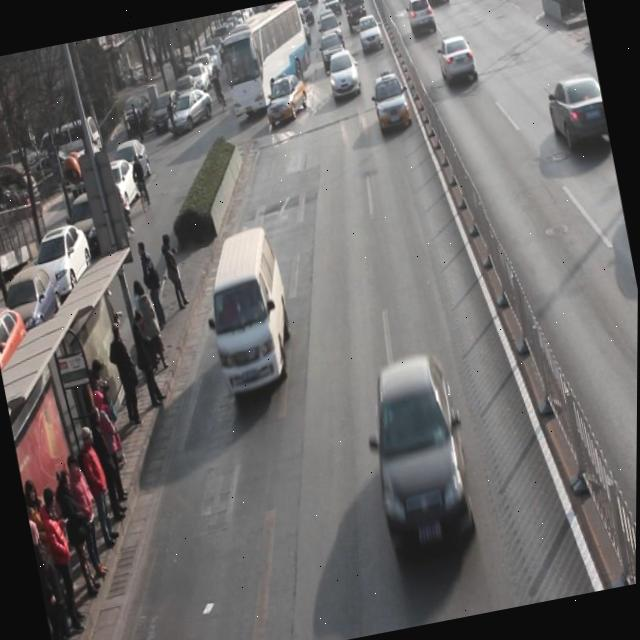car: (357, 346, 483, 559), (543, 68, 612, 156), (260, 72, 313, 128), (371, 70, 414, 135), (436, 32, 479, 90), (325, 47, 365, 101), (318, 29, 350, 75), (316, 8, 346, 54), (404, 0, 438, 40), (356, 12, 386, 57), (342, 0, 370, 30), (422, 0, 452, 12)
truck: (196, 222, 305, 396)
van: (215, 0, 319, 116)
